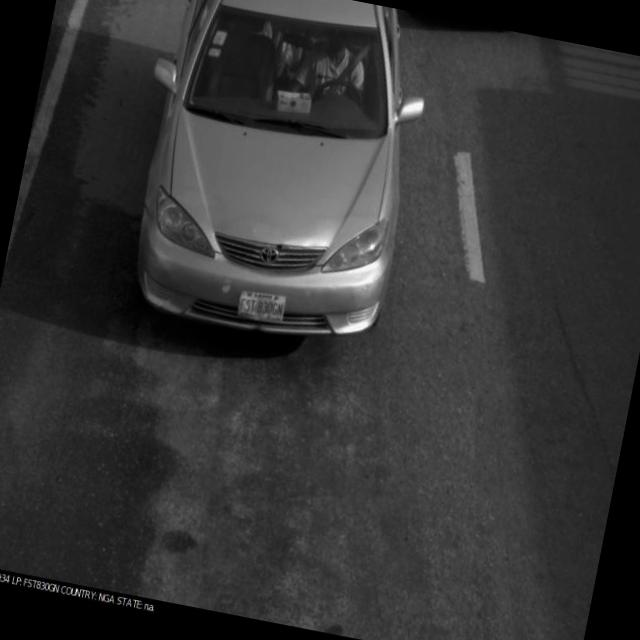person_with_seatbelt: (288, 12, 387, 128)
